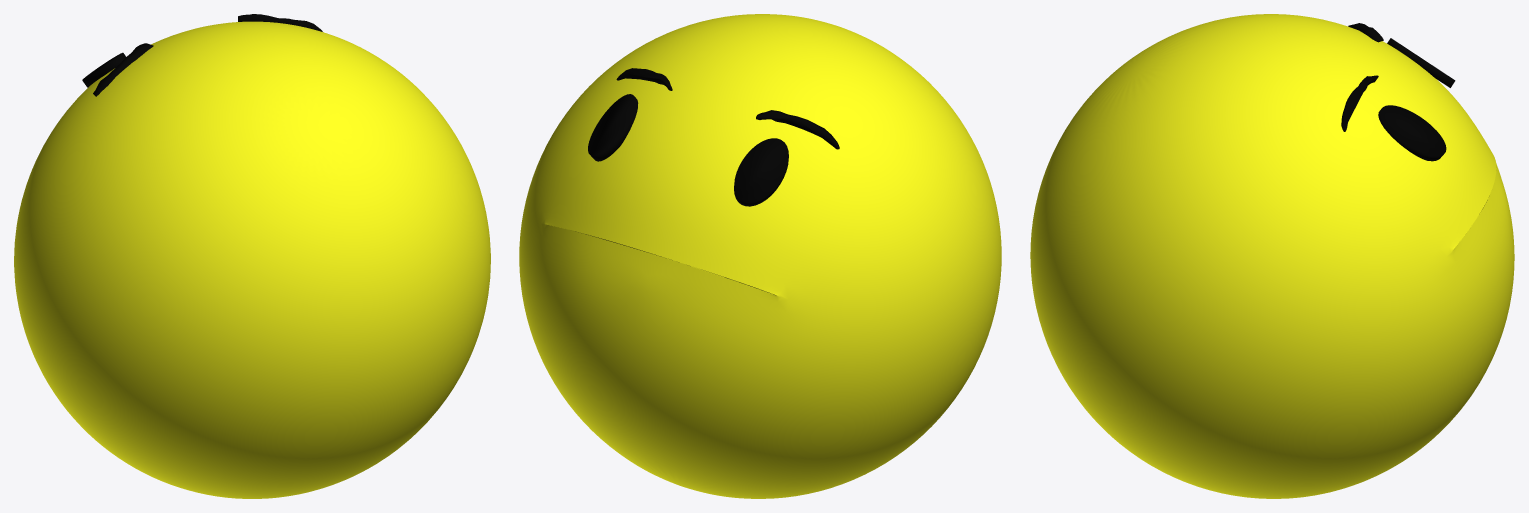
Rendered from [92] lookUp.obj.
3 renders of one model, left to right at view 1: azimuth 30°, elevation 25°; view 2: azimuth 150°, elevation 25°; view 3: azimuth 270°, elevation 25°, orthographic.
Parts seen in each view (by area): view 1: head_Sphere.002, rightEyebrow_Cylinder.005, leftEyebrow_Cylinder.003; view 2: head_Sphere.002, rightEye_Cylinder.001, leftEye_Cylinder.002, rightEyebrow_Cylinder.005, leftEyebrow_Cylinder.003; view 3: head_Sphere.002, leftEye_Cylinder.002, rightEye_Cylinder.001, leftEyebrow_Cylinder.003.
Boxes of the visible parts, x1,y1,x2,y2 form: head_Sphere.002: [14, 21, 490, 498]; rightEyebrow_Cylinder.005: [93, 43, 153, 96]; leftEyebrow_Cylinder.003: [238, 14, 322, 31]; head_Sphere.002: [519, 14, 1001, 498]; rightEye_Cylinder.001: [734, 138, 788, 206]; leftEye_Cylinder.002: [588, 94, 638, 161]; rightEyebrow_Cylinder.005: [756, 110, 839, 149]; leftEyebrow_Cylinder.003: [616, 68, 672, 90]; head_Sphere.002: [1030, 14, 1514, 498]; leftEye_Cylinder.002: [1378, 105, 1446, 161]; rightEye_Cylinder.001: [1387, 38, 1455, 87]; leftEyebrow_Cylinder.003: [1341, 75, 1378, 131].
Size of the model in its own units: 3.65 by 3.67 by 3.66.
